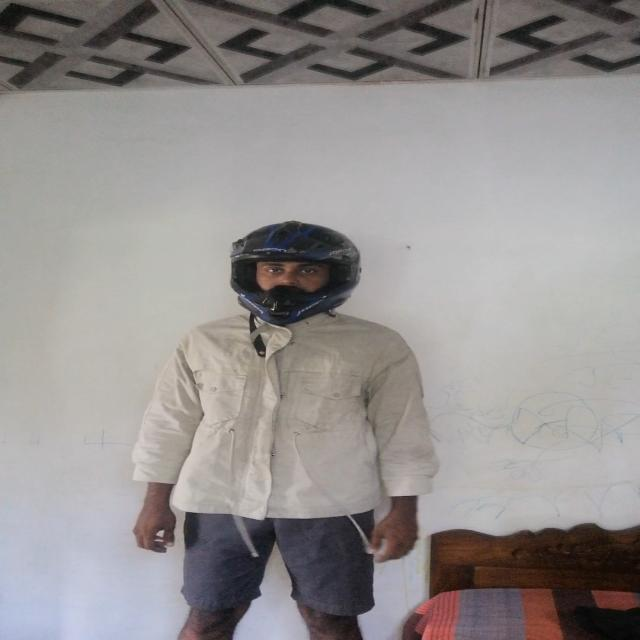Helmet_Wearer: (213, 221, 357, 331)
Jacket_Wearer: (163, 308, 434, 528)
Person: (151, 229, 436, 640)
